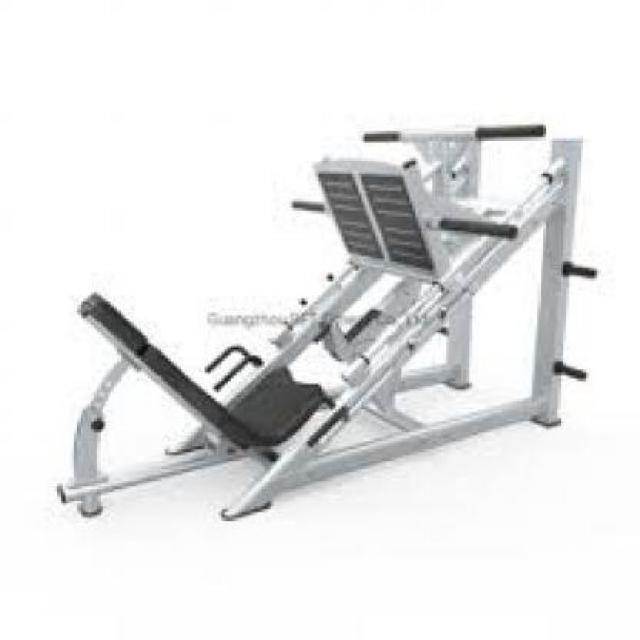leg press: (45, 74, 604, 569)
